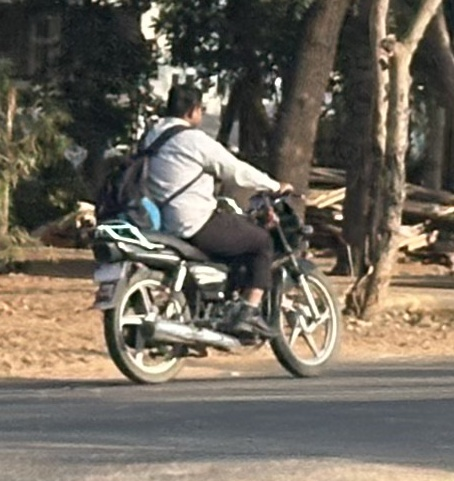BikeWithRider: (82, 84, 339, 385)
NoHelmet: (161, 84, 210, 125)
